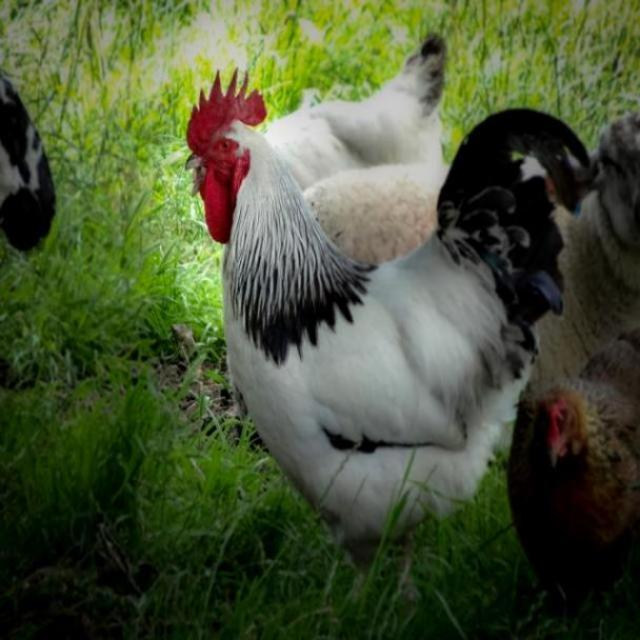Chicken: (179, 68, 587, 579), (508, 383, 640, 640), (257, 30, 448, 190)
